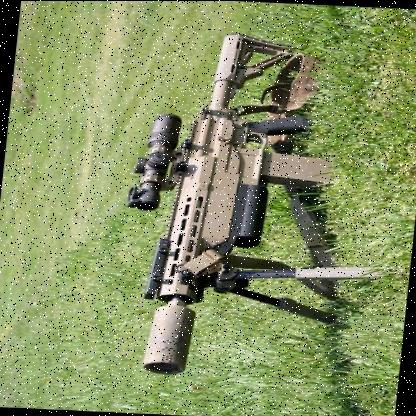rifle: (102, 29, 332, 383)
